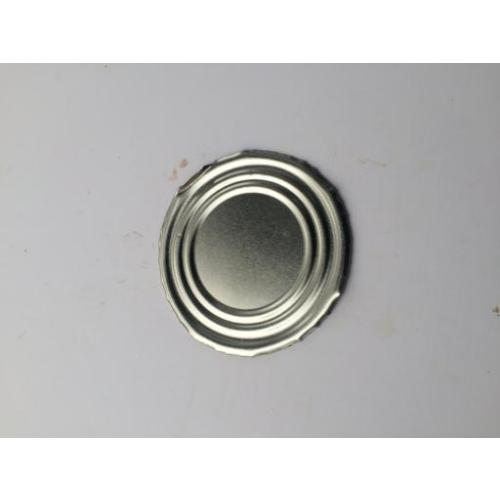metal: (160, 149, 353, 355)
